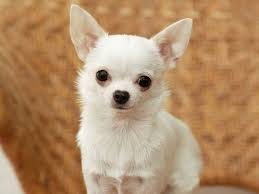chihuahua: (59, 1, 208, 185)
